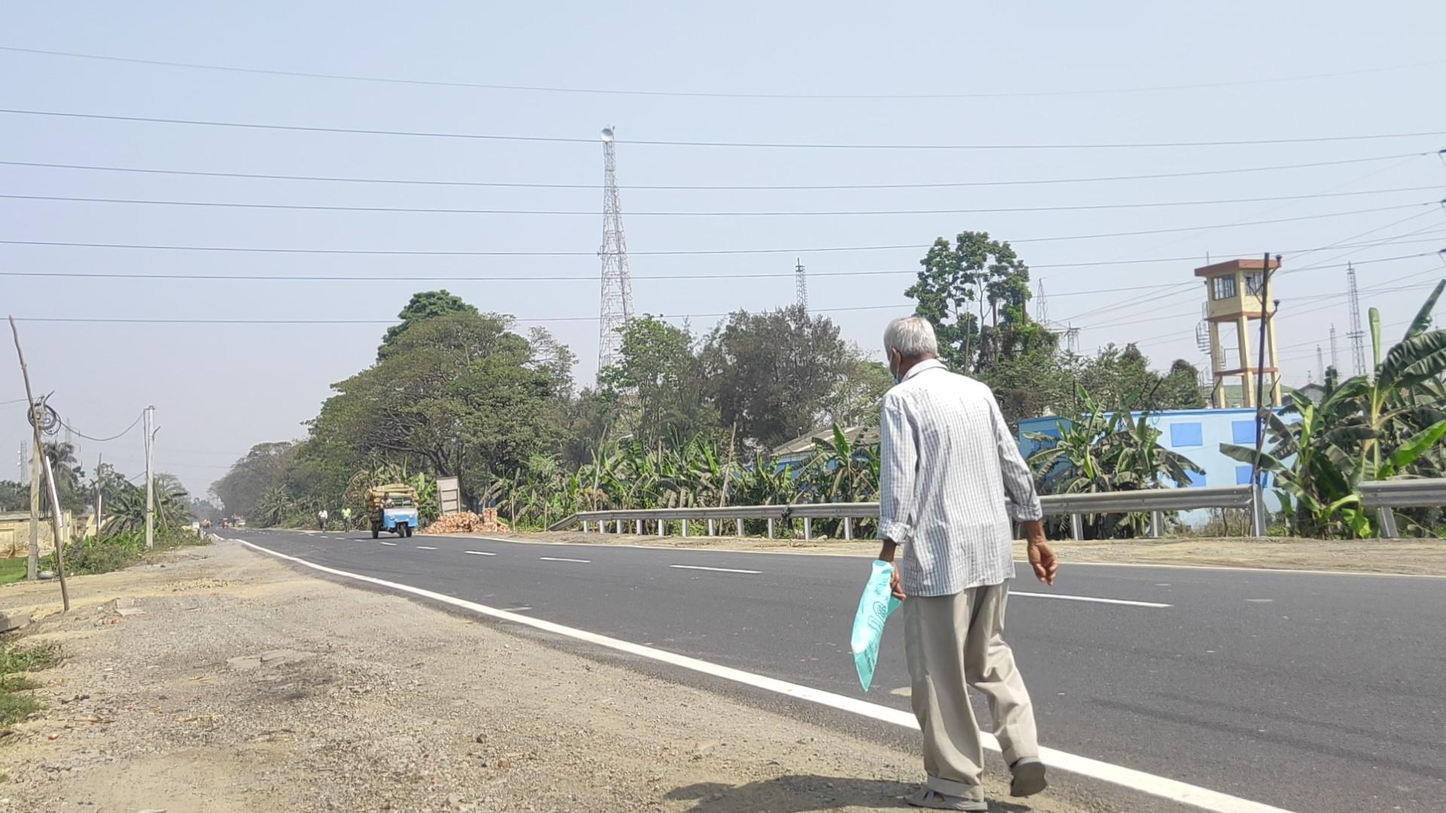bike: (340, 504, 352, 533), (318, 506, 328, 534)
